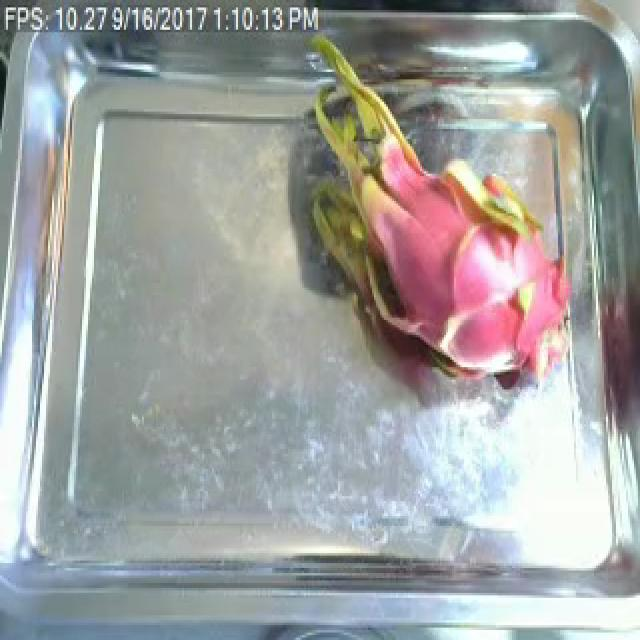fruit: (288, 49, 578, 412)
